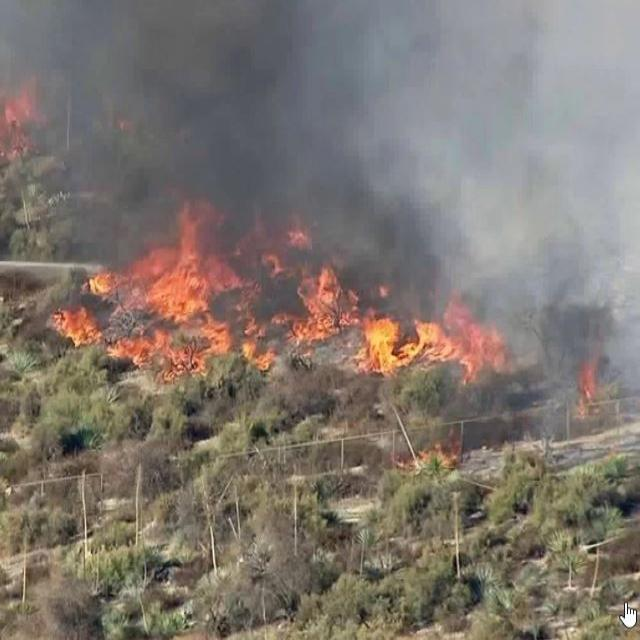Fire: (36, 224, 640, 485)
